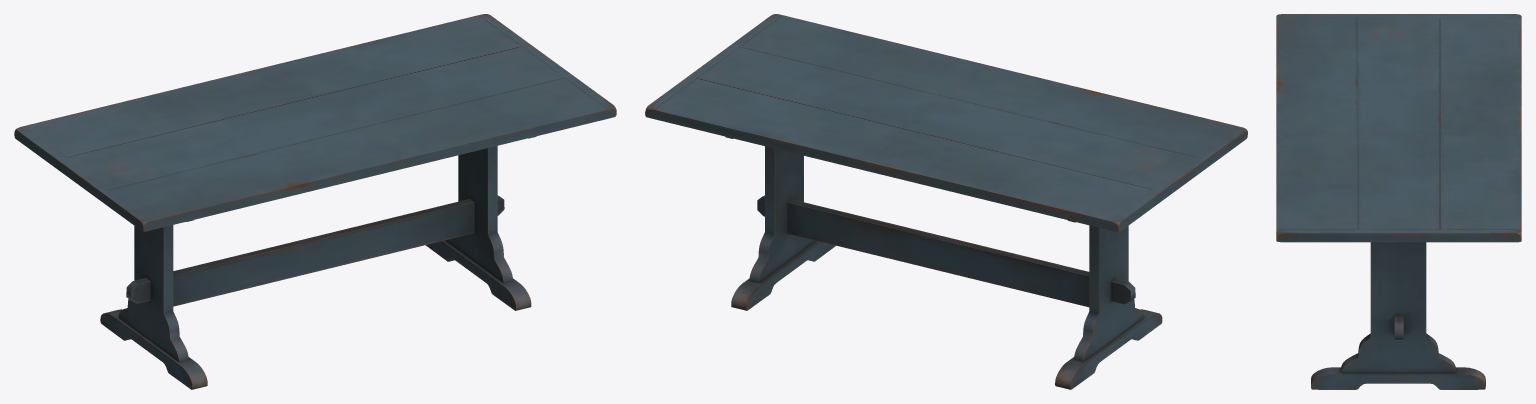
Rendered from painted_wooden_table.glb.
3 views of the same model, side by side, from view 1: azimuth 30°, elevation 25°; view 2: azimuth 150°, elevation 25°; view 3: azimuth 270°, elevation 25° (orthographic). The views are drawn at different scales.
Parts seen in each view (by area): view 1: painted_wooden_table; view 2: painted_wooden_table; view 3: painted_wooden_table.
Boxes of the visible parts, x1,y1,x2,y2 form: painted_wooden_table: [14, 14, 616, 389]; painted_wooden_table: [645, 14, 1247, 389]; painted_wooden_table: [1276, 14, 1521, 389].
Bounding box in the file's own units: 2.41 × 0.9586 × 1.14.
1 material, 1 textured.
